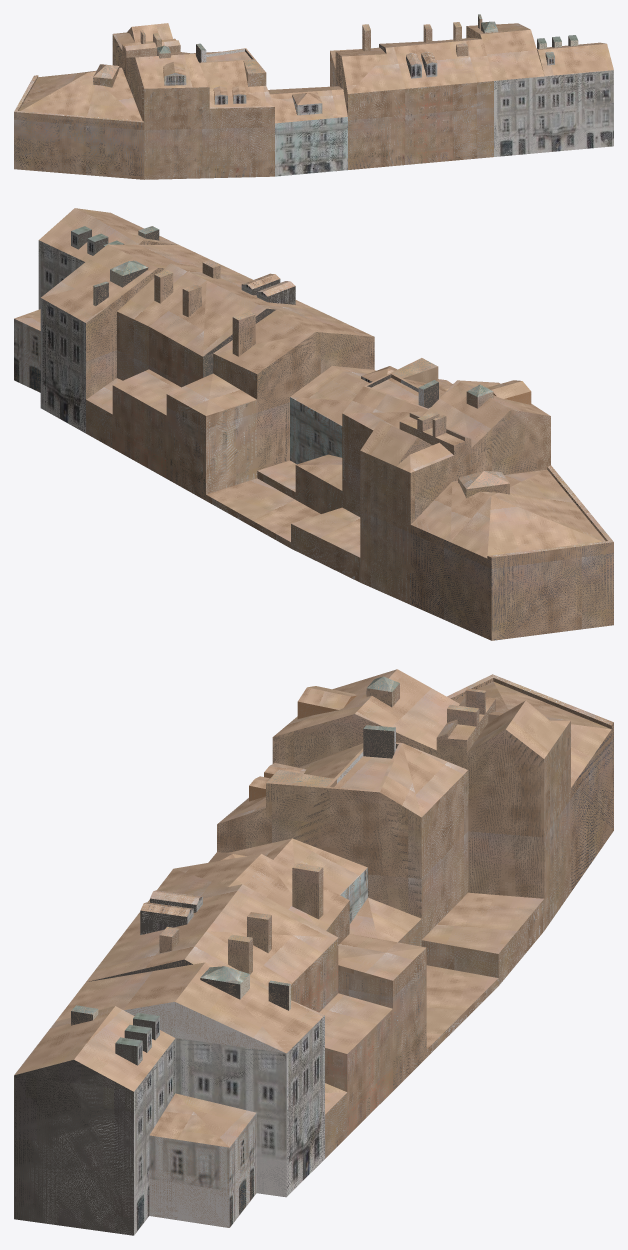
The model's file is predios.dae.
3 renders of one model, top to bottom at view 1: azimuth 30°, elevation 25°; view 2: azimuth 150°, elevation 25°; view 3: azimuth 270°, elevation 25°, orthographic. The views are drawn at different scales.
Visible parts, largest first — view 1: group_0 (×28); view 2: group_0 (×38); view 3: group_0 (×40).
Boxes of the visible parts, box(x1,y1,x2,y2) form: group_0 (×28): box(14, 23, 613, 179); group_0 (×38): box(14, 208, 613, 640); group_0 (×40): box(14, 669, 613, 1235).
Bounding box in the file's own units: 4309 × 2411 × 966.
35 materials, 35 textured.
